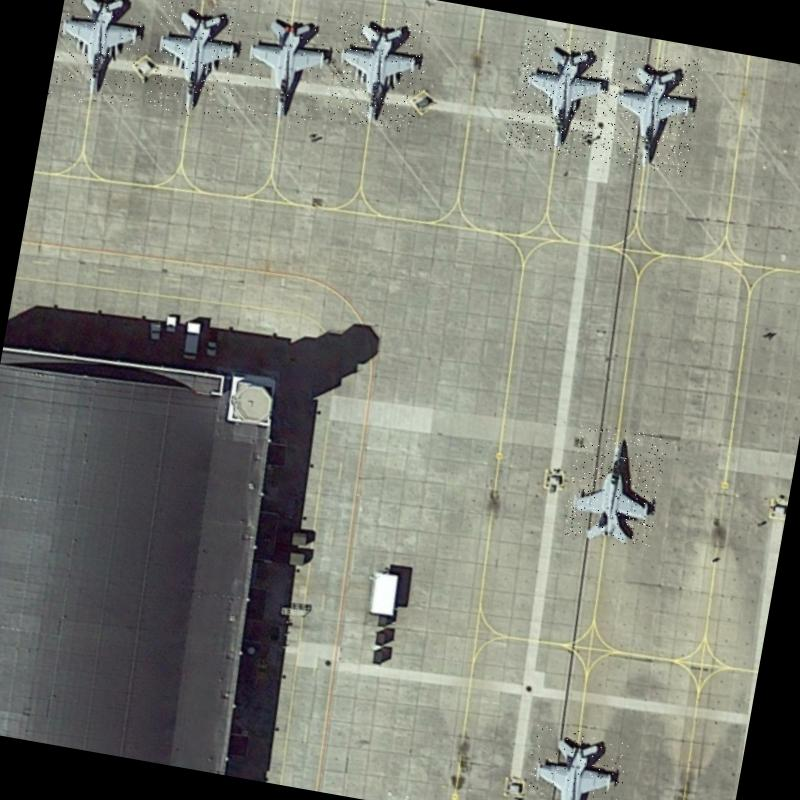A16: (504, 28, 617, 162), (598, 45, 706, 178), (561, 420, 669, 552), (322, 9, 432, 134), (232, 6, 336, 134), (144, 0, 248, 124), (47, 0, 151, 111), (518, 723, 630, 800)
